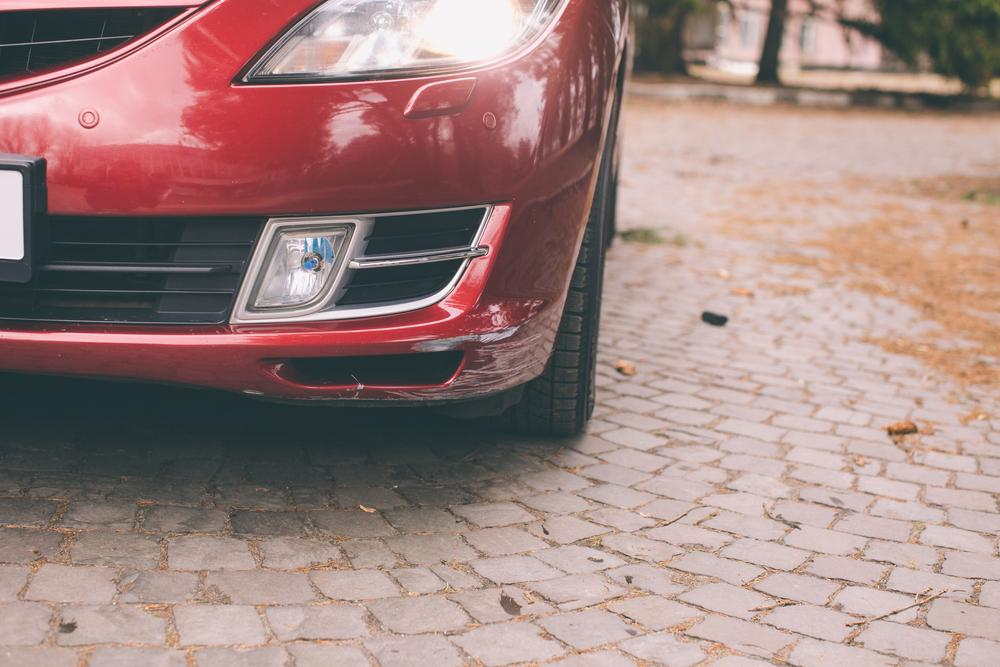scratch: (372, 306, 561, 405)
